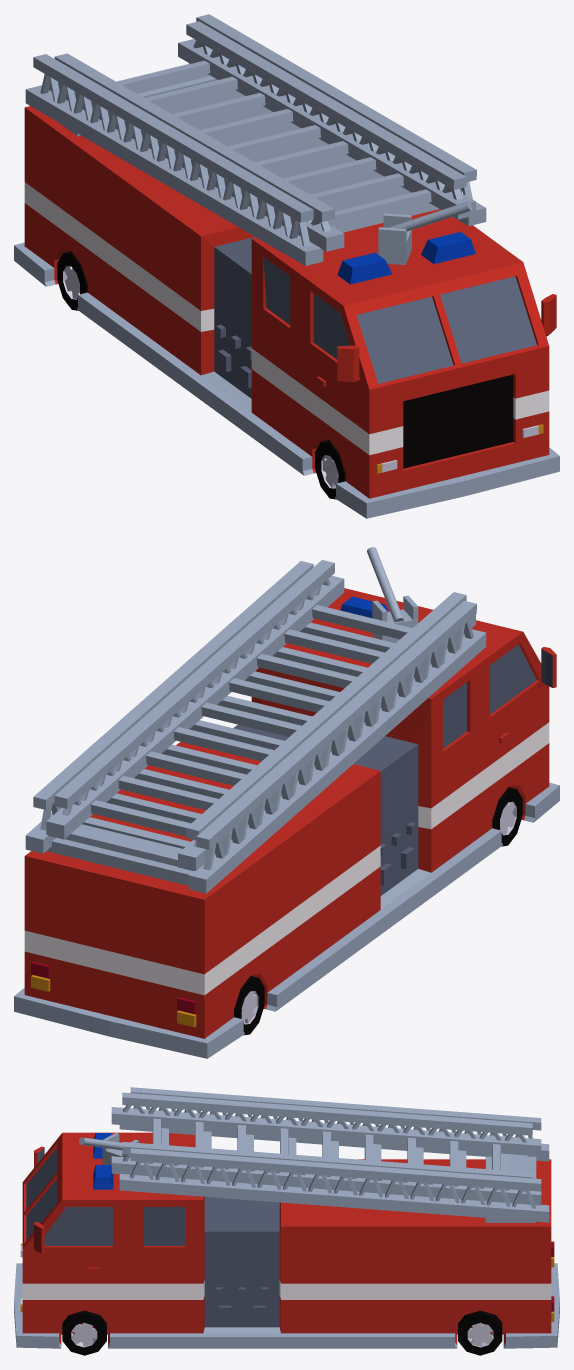
File: caminhao3.gltf
3 views of the same model, one above another, from view 1: azimuth 30°, elevation 25°; view 2: azimuth 150°, elevation 25°; view 3: azimuth 270°, elevation 25° (orthographic). The views are drawn at different scales.
Visible parts, largest first — view 1: Cubo; view 2: Cubo; view 3: Cubo.
Part boxes in pixels (box(x1,y1,x2,y2)): Cubo: box(14, 14, 559, 518); Cubo: box(14, 547, 559, 1058); Cubo: box(14, 1087, 559, 1355).
Bounding box in the file's own units: 3.41 × 3.93 × 9.6.
